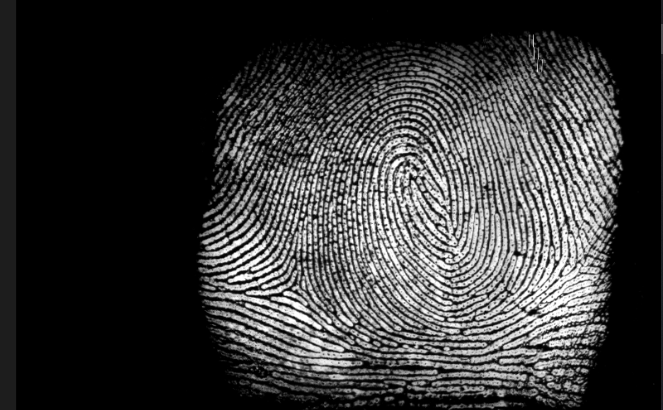nucelo: (404, 172, 428, 190)
verticilo: (276, 278, 305, 303), (563, 253, 589, 274)
